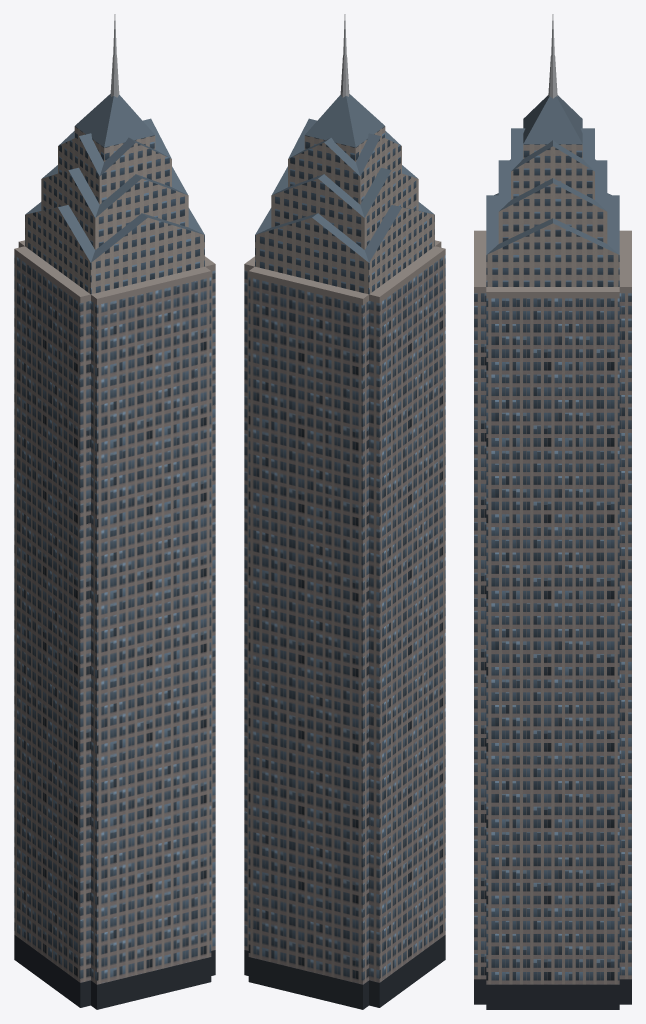
The model's file is two_prudential.glb.
The picture shows the model from 3 angles, left to right: view 1: azimuth 30°, elevation 25°; view 2: azimuth 150°, elevation 25°; view 3: azimuth 270°, elevation 25°; orthographic projection.
Visible parts, largest first — view 1: two_prudential; view 2: two_prudential; view 3: two_prudential.
Part boxes in pixels (x1=…): two_prudential: x1=14, y1=14, x2=215, y2=1009; two_prudential: x1=244, y1=14, x2=445, y2=1009; two_prudential: x1=474, y1=14, x2=631, y2=1009.
Bounding box in the file's own units: 45 × 303 × 45.
Materials: 3 (3 with a texture image).
